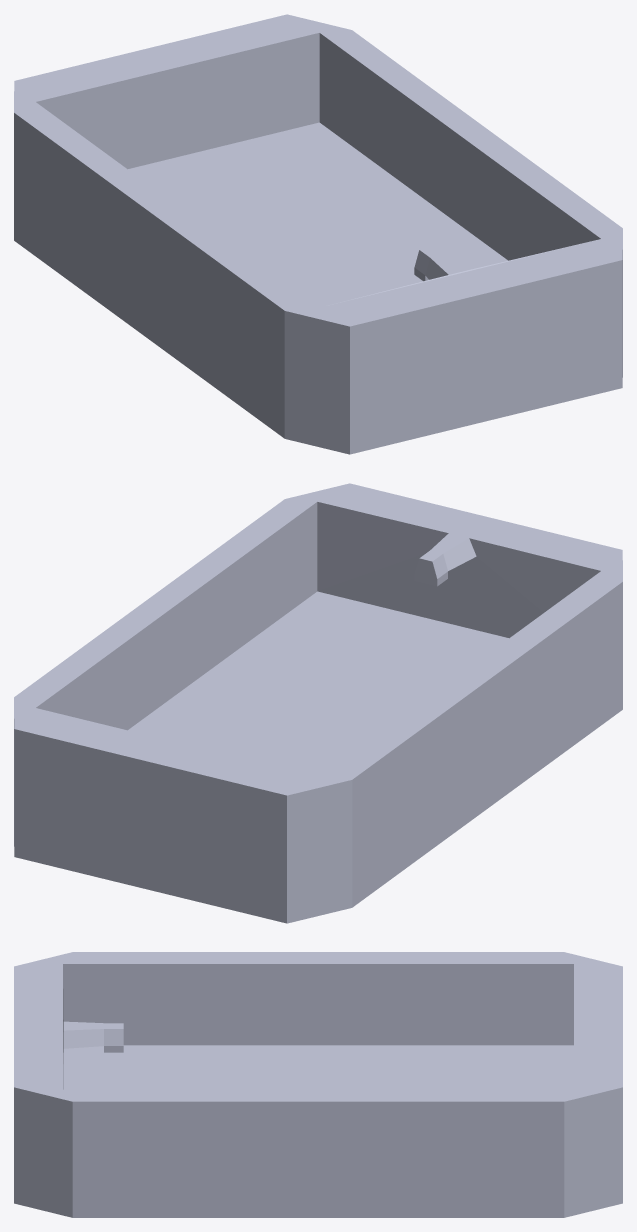
The model's file is BathTub.fbx.
The picture shows the model from 3 angles, top to bottom: view 1: azimuth 30°, elevation 25°; view 2: azimuth 150°, elevation 25°; view 3: azimuth 270°, elevation 25°; orthographic projection. The views are drawn at different scales.
Visible parts, largest first — view 1: Cube; view 2: Cube; view 3: Cube.
Boxes of the visible parts, x1,y1,x2,y2 form: Cube: [14, 14, 622, 454]; Cube: [14, 483, 622, 923]; Cube: [14, 952, 622, 1217].
Bounding box in the file's own units: 553 × 201 × 950.
